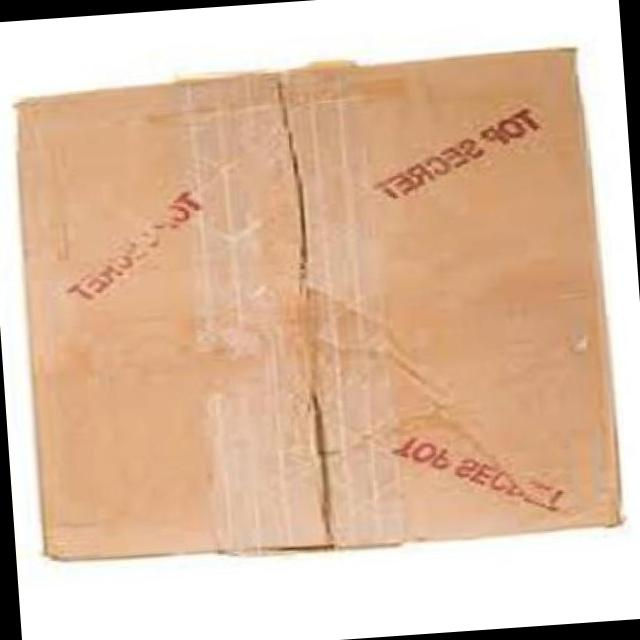box: (12, 48, 627, 564)
